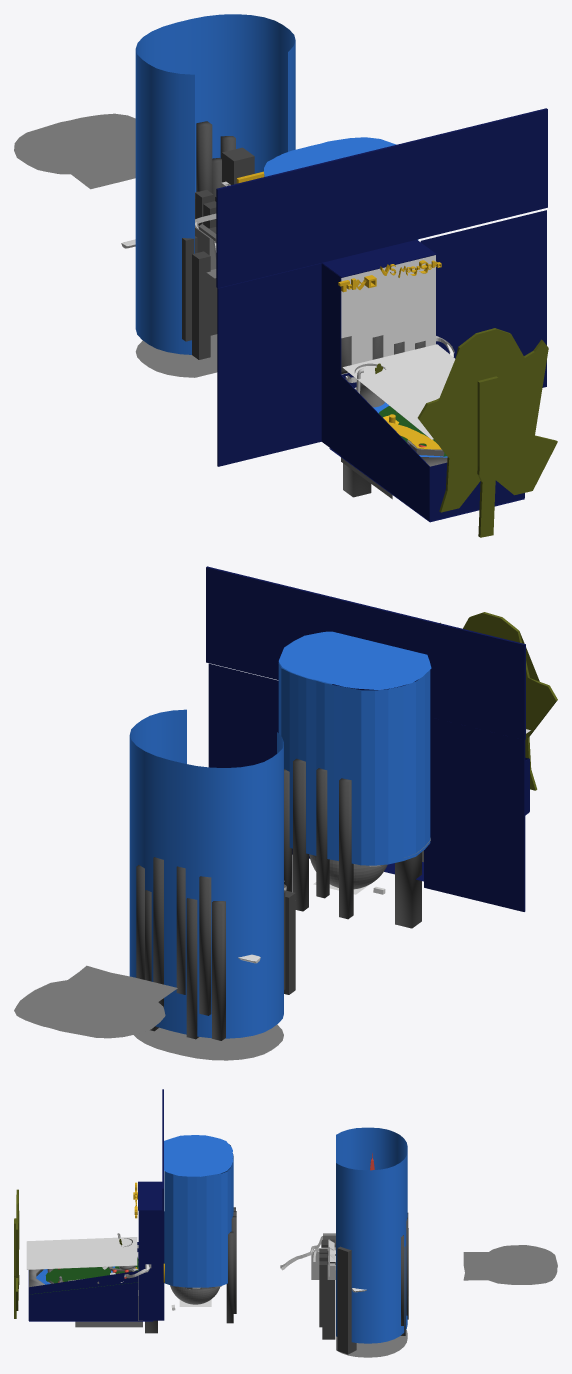
The model's file is Pinball Machine Base narrow pipe - village v2.fbx.
The picture shows the model from 3 angles, top to bottom: view 1: azimuth 30°, elevation 25°; view 2: azimuth 150°, elevation 25°; view 3: azimuth 270°, elevation 25°; orthographic projection. The views are drawn at different scales.
Visible parts, largest first — view 1: TopOfBack, Plane.004, SideOfBack01, MegaGeko.006, Arcade Wall Right, BackGlass, City Base.001, RightSideOfMachine, PlayfieldGlass, City Roof, WallBuilding02.019, Plane.003 (+5 smaller); view 2: Plane.004, City Walls, TopOfBack, SideOfBack01, City Base.001, Arcade Wall Right, City Roof, Plane.003, MegaGeko.006, WallBuilding02, WallBuilding02.020, WallBuilding02.001 (+11 smaller); view 3: Plane.004, City Walls, LeftSideOfMachine, PlayfieldGlass, City Base.001, Machine wall right, City Roof, WallBuilding02.011, TopOfBack, Village PlayField, Plane.003, WallBuilding02.005 (+7 smaller).
Boxes of the visible parts, bbox=[...] form: TopOfBack: bbox=[216, 108, 547, 287]; Plane.004: bbox=[135, 14, 295, 354]; SideOfBack01: bbox=[217, 263, 341, 466]; MegaGeko.006: bbox=[417, 328, 557, 537]; Arcade Wall Right: bbox=[420, 210, 546, 387]; BackGlass: bbox=[341, 255, 435, 374]; City Base.001: bbox=[14, 113, 135, 189]; RightSideOfMachine: bbox=[340, 375, 429, 521]; PlayfieldGlass: bbox=[342, 344, 455, 439]; City Roof: bbox=[264, 137, 396, 176]; WallBuilding02.019: bbox=[192, 251, 210, 359]; Plane.003: bbox=[135, 334, 217, 377]; Plane.004: bbox=[129, 709, 283, 1038]; City Walls: bbox=[278, 662, 430, 865]; TopOfBack: bbox=[206, 566, 525, 739]; SideOfBack01: bbox=[424, 717, 525, 911]; City Base.001: bbox=[14, 965, 177, 1038]; Arcade Wall Right: bbox=[208, 663, 309, 858]; City Roof: bbox=[278, 631, 431, 689]; Plane.003: bbox=[134, 1024, 283, 1060]; MegaGeko.006: bbox=[440, 612, 557, 790]; WallBuilding02: bbox=[293, 758, 308, 911]; WallBuilding02.020: bbox=[212, 901, 225, 1040]; WallBuilding02.001: bbox=[339, 778, 353, 919]; Plane.004: bbox=[336, 1127, 407, 1343]; City Walls: bbox=[164, 1144, 233, 1287]; LeftSideOfMachine: bbox=[28, 1271, 138, 1320]; PlayfieldGlass: bbox=[26, 1237, 137, 1269]; City Base.001: bbox=[463, 1245, 557, 1284]; Machine wall right: bbox=[139, 1211, 164, 1320]; City Roof: bbox=[164, 1135, 232, 1176]; WallBuilding02.011: bbox=[337, 1246, 356, 1354]; TopOfBack: bbox=[138, 1089, 163, 1249]; Village PlayField: bbox=[30, 1258, 138, 1294]; Plane.003: bbox=[336, 1329, 407, 1357]; WallBuilding02.005: bbox=[322, 1239, 335, 1339].
Size of the model in its own units: 29944 by 28349 by 69125.
